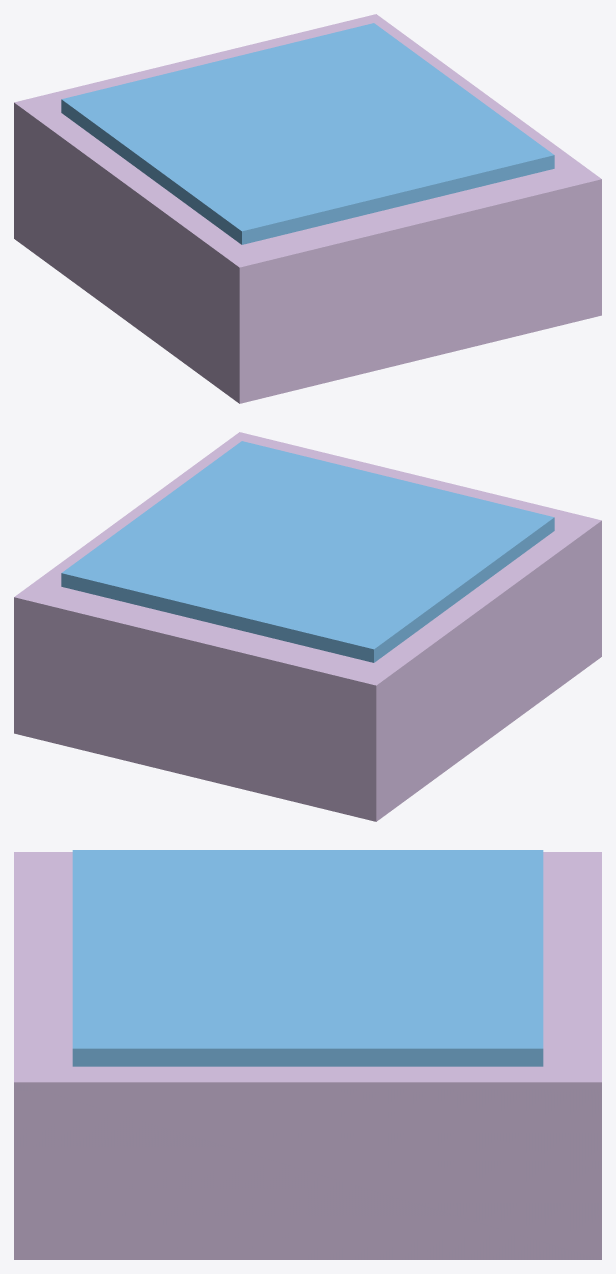
Rendered from Prop_Pet_AMF_Bowl_V19.glb.
3 renders of one model, top to bottom at view 1: azimuth 30°, elevation 25°; view 2: azimuth 150°, elevation 25°; view 3: azimuth 270°, elevation 25°, orthographic. The views are drawn at different scales.
Parts seen in each view (by area): view 1: Prop_Pet_AMF_Bowl_V19; view 2: Prop_Pet_AMF_Bowl_V19; view 3: Prop_Pet_AMF_Bowl_V19.
Boxes of the visible parts, x1=… form: Prop_Pet_AMF_Bowl_V19: x1=14, y1=14, x2=601, y2=403; Prop_Pet_AMF_Bowl_V19: x1=14, y1=432, x2=601, y2=821; Prop_Pet_AMF_Bowl_V19: x1=14, y1=850, x2=601, y2=1259.
Bounding box in the file's own units: 0.2781 × 0.11 × 0.3.
